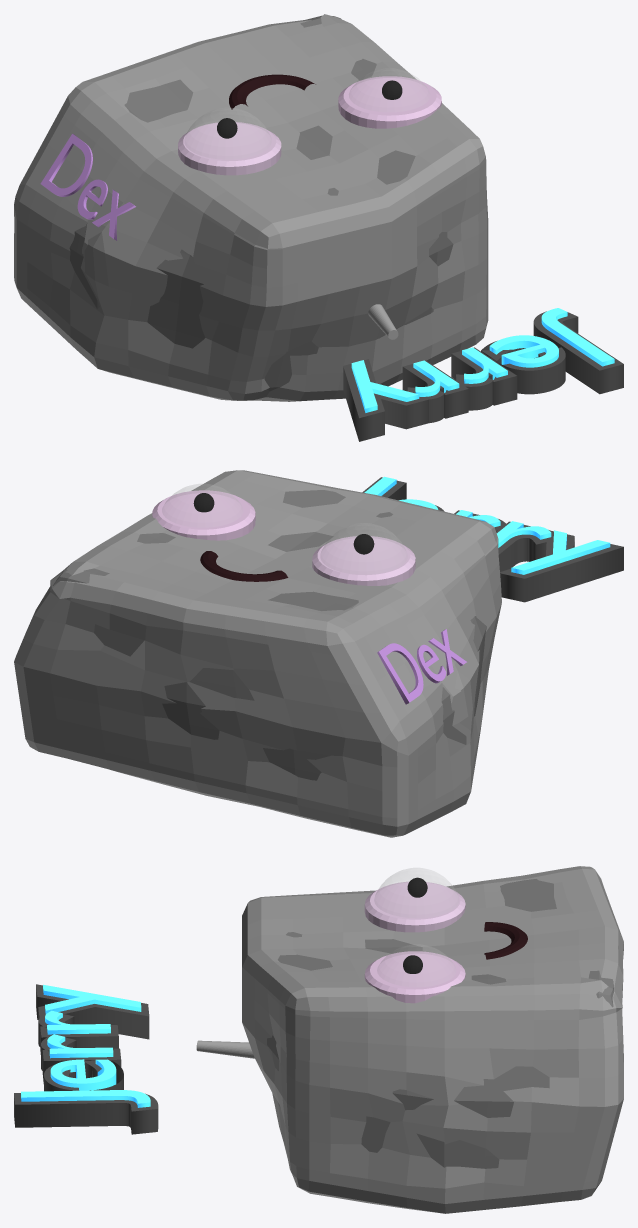
The model's file is dex_big_pp_rock_for_only_dex.fbx.
3 renders of one model, top to bottom at view 1: azimuth 30°, elevation 25°; view 2: azimuth 150°, elevation 25°; view 3: azimuth 270°, elevation 25°, orthographic. The views are drawn at different scales.
Parts seen in each view (by area): view 1: Cube, Text.001, Cube.001, Text, Cylinder, Cylinder.001, Text.002, Sphere, Torus, Sphere.001; view 2: Cube, Cube.001, Text.001, Cylinder, Cylinder.001, Text, Text.002, Sphere, Torus, Sphere.001; view 3: Cube, Cube.001, Text.001, Text, Cylinder, Cylinder.001, Sphere, Torus, Cylinder.002, Sphere.001.
Part boxes in pixels (x1,y1,x2,y2): Cube: (14, 14, 488, 401); Text.001: (343, 311, 623, 441); Cube.001: (69, 15, 453, 391); Text: (351, 308, 614, 412); Cylinder: (178, 122, 281, 175); Cylinder.001: (338, 76, 441, 128); Text.002: (40, 133, 135, 240); Sphere: (185, 68, 427, 137); Torus: (229, 74, 315, 109); Sphere.001: (217, 80, 402, 138); Cube: (14, 470, 501, 837); Cube.001: (53, 490, 486, 780); Text.001: (362, 477, 623, 602); Cylinder: (312, 536, 415, 585); Cylinder.001: (152, 490, 255, 540); Text: (364, 476, 610, 574); Text.002: (377, 629, 466, 704); Sphere: (165, 484, 405, 552); Torus: (200, 551, 288, 581); Sphere.001: (193, 493, 374, 554); Cube: (242, 866, 623, 1213); Cube.001: (267, 879, 613, 1168); Text.001: (14, 984, 158, 1134); Text: (21, 984, 150, 1107); Cylinder: (364, 881, 465, 932); Cylinder.001: (364, 951, 465, 1003); Sphere: (375, 868, 457, 965); Torus: (484, 922, 527, 959); Cylinder.002: (196, 1040, 254, 1058); Sphere.001: (403, 877, 427, 973).
Size of the model in its own units: 302 by 203 by 432.
